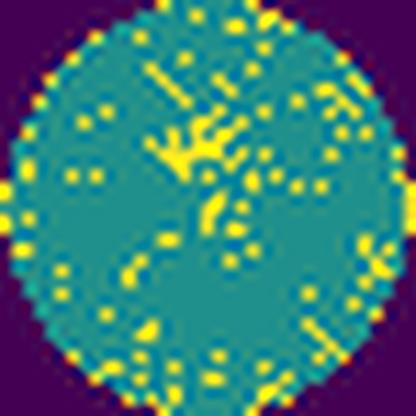Loc: (142, 102, 254, 184)
